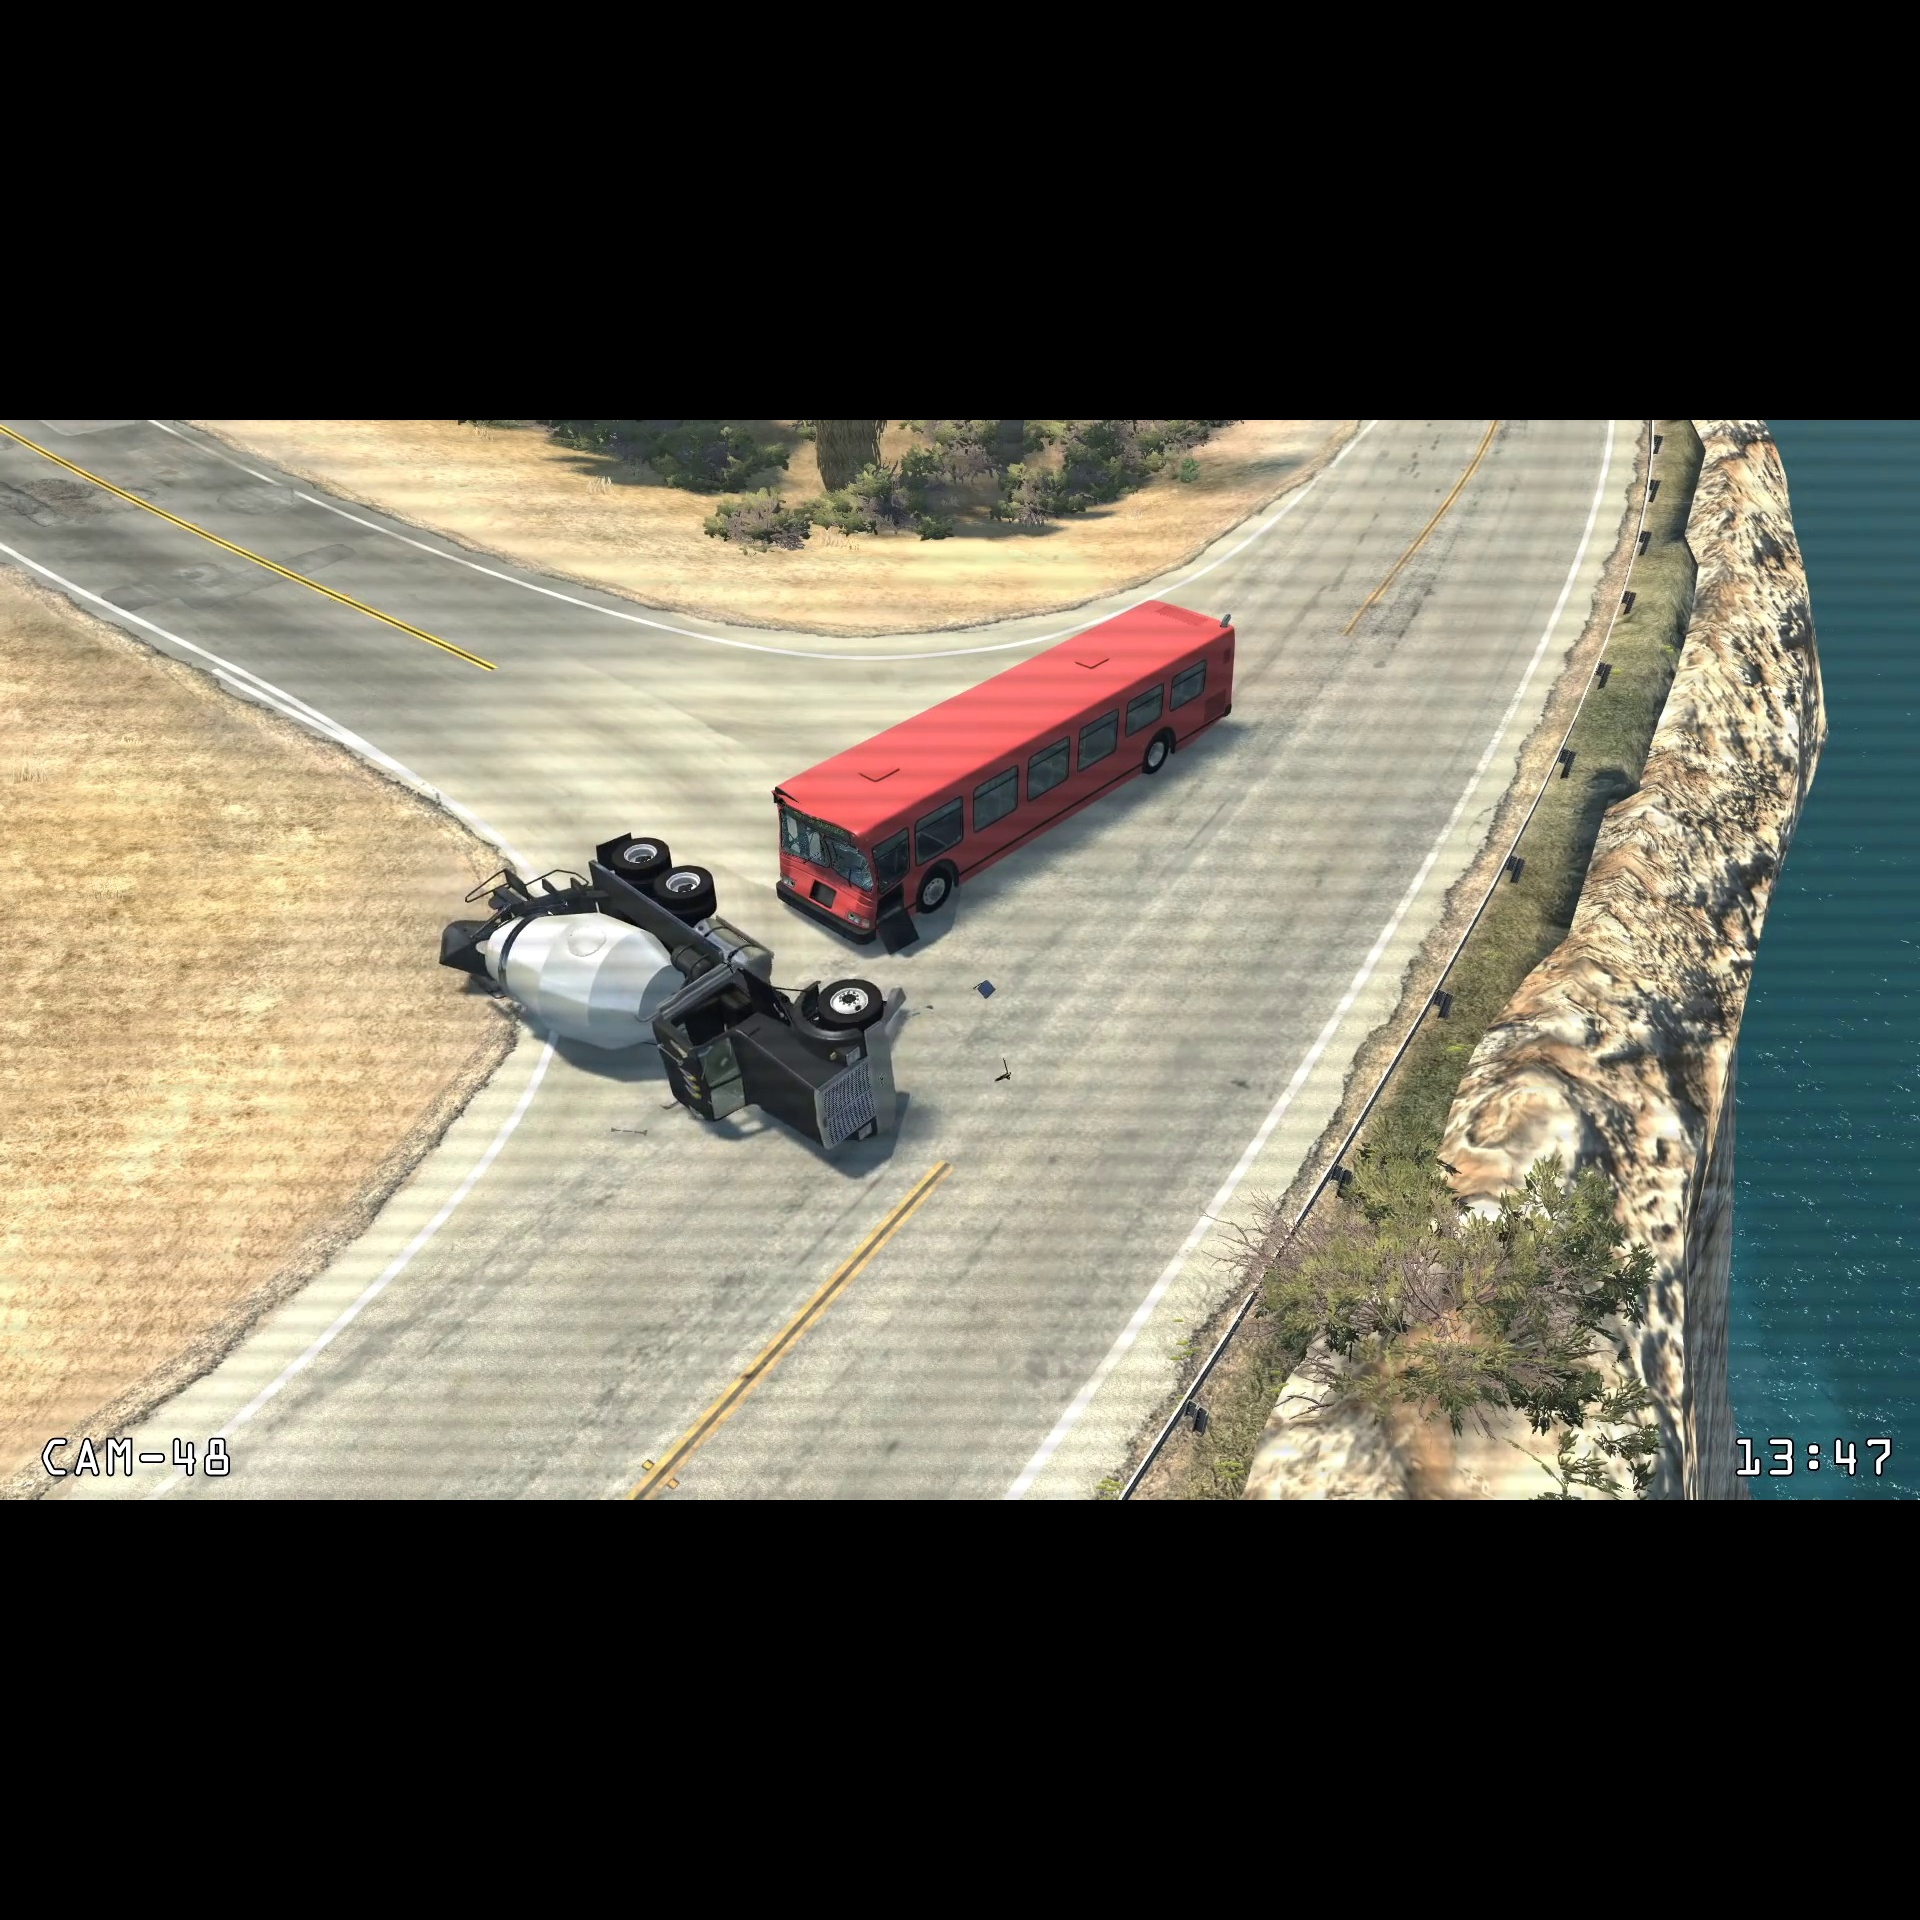vehicle: (774, 591, 1241, 948), (431, 823, 907, 1160)
